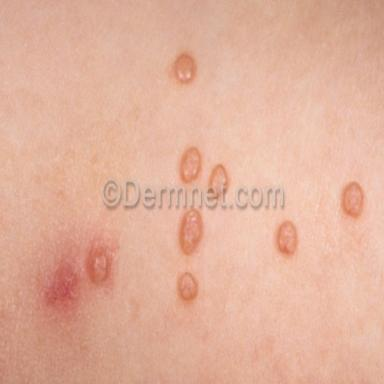Molluscum-Contagiosum: (181, 210, 203, 254), (86, 245, 109, 284), (342, 182, 363, 216), (181, 148, 201, 182), (277, 221, 297, 254), (174, 54, 195, 82), (179, 273, 197, 300), (209, 164, 228, 182)
